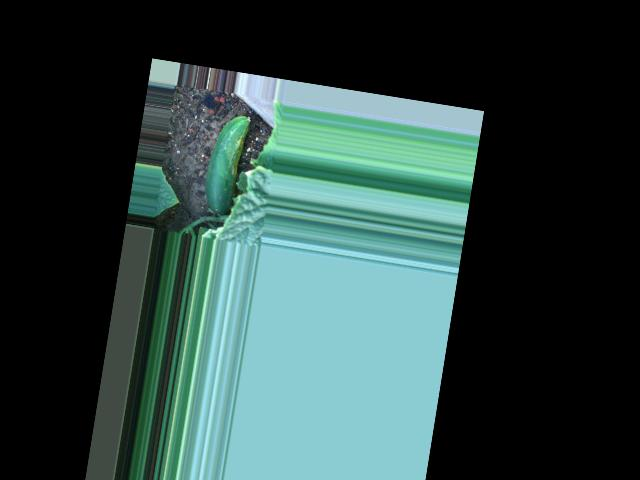cucumber: (201, 111, 251, 216)
